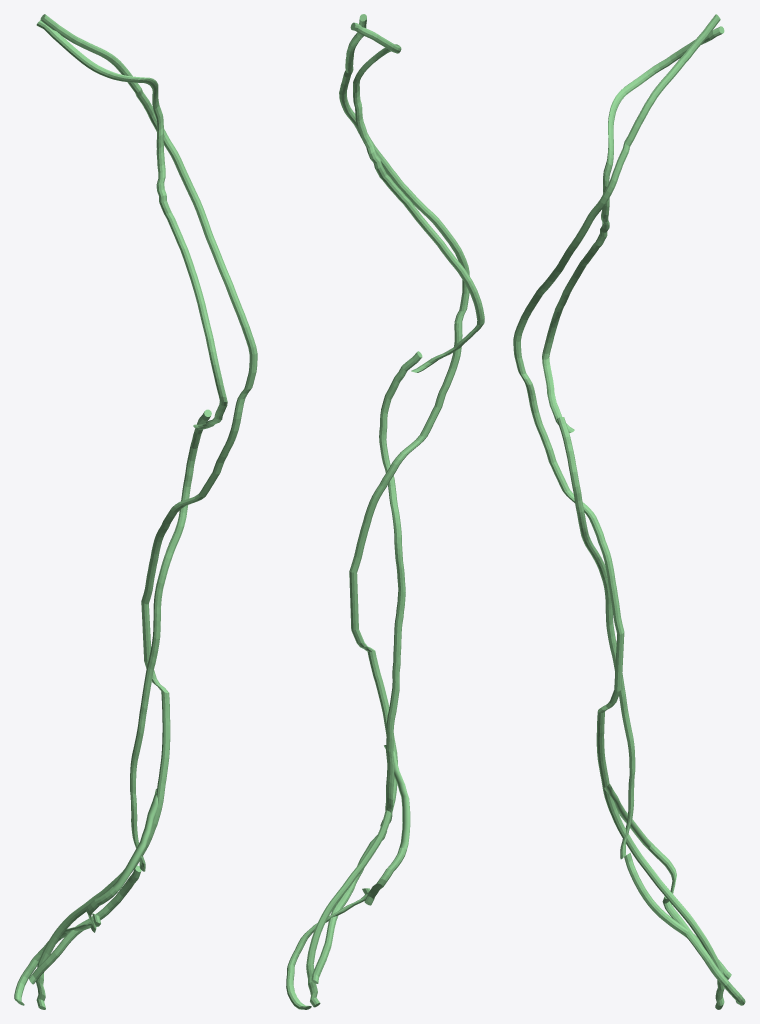
The model's file is VinesAB.fbx.
The picture shows the model from 3 angles, left to right: view 1: azimuth 90°, elevation 25°; view 2: azimuth 150°, elevation 25°; view 3: azimuth 270°, elevation 25°; orthographic projection. The views are drawn at different scales.
Parts seen in each view (by area): view 1: group_1031290959, group_976960385, group_1731314592, group_1171849809, group_937272142, group_1584218200; view 2: group_1031290959, group_1731314592, group_976960385, group_1171849809, group_1584218200, group_937272142; view 3: group_1031290959, group_976960385, group_1731314592, group_1584218200, group_937272142, group_1171849809.
Boxes of the visible parts, x1,y1,x2,y2 form: group_1031290959: (36,14,257,1009); group_976960385: (36,20,227,429); group_1731314592: (130,409,211,871); group_1171849809: (86,788,157,932); group_937272142: (29,865,141,984); group_1584218200: (14,913,100,1005); group_1031290959: (306,14,469,1007); group_1731314592: (379,351,422,826); group_976960385: (350,22,484,372); group_1171849809: (364,745,410,905); group_1584218200: (286,888,370,1009); group_937272142: (311,831,386,983); group_1031290959: (513,14,724,1009); group_976960385: (542,26,724,432); group_1731314592: (557,417,635,859); group_1584218200: (662,896,745,1005); group_937272142: (624,853,731,979); group_1171849809: (604,783,676,904).
Bounding box in the file's own units: 0.1619 × 1.39 × 0.3009.
